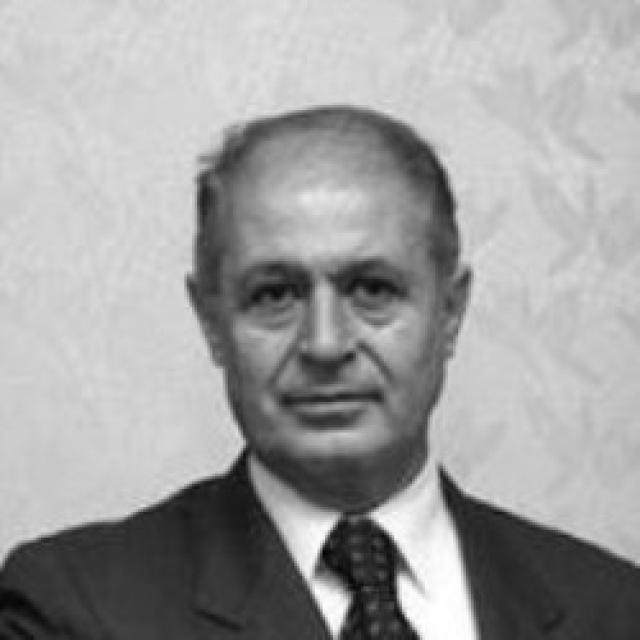real: (210, 114, 440, 474), (239, 259, 421, 333)
